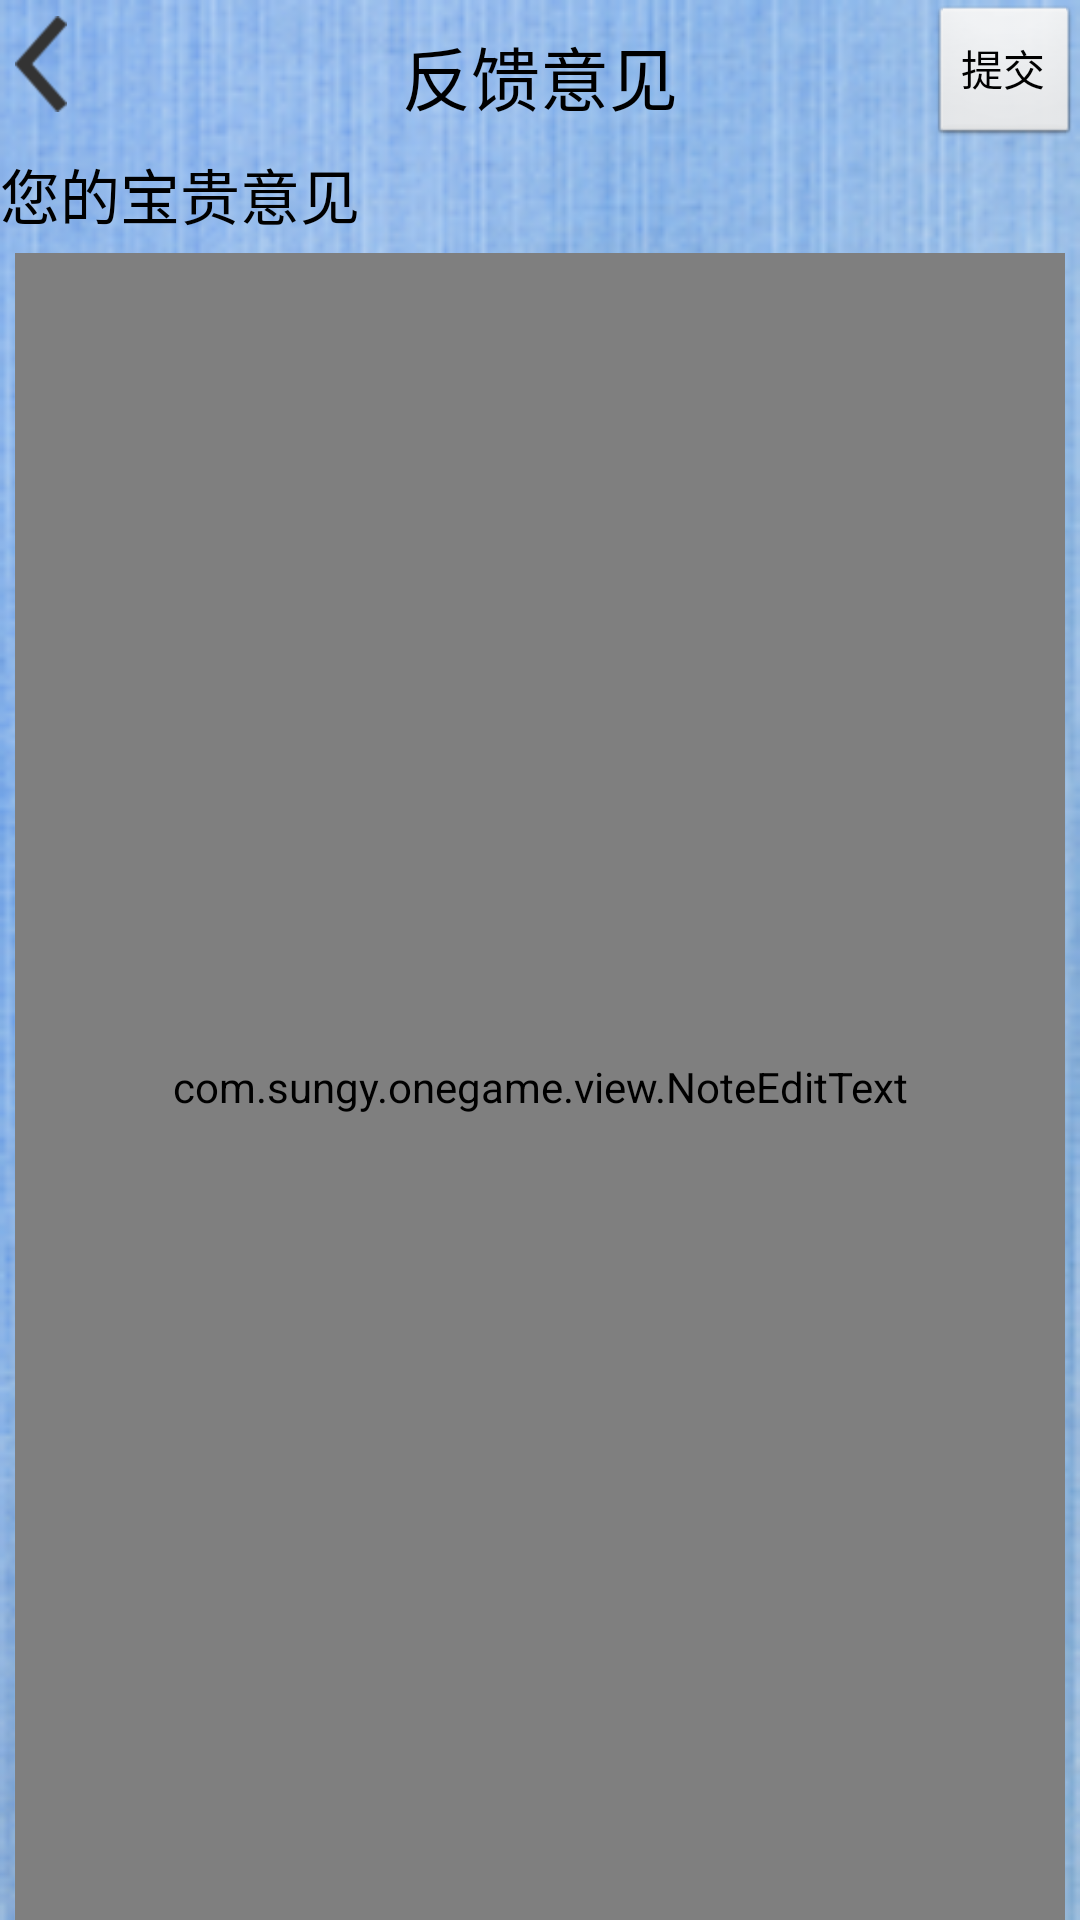

Icon click points for this 1080 × 1920 phone screenshot, format (x,y):
detail back: (41,64)
